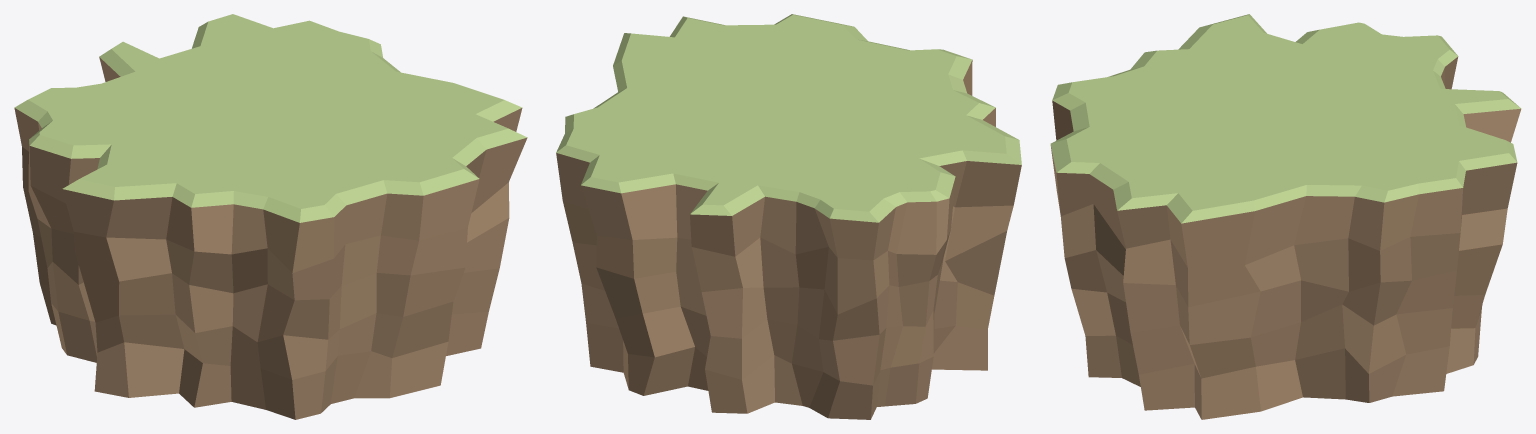
The model's file is Charlton_Cliff.glb.
3 renders of one model, left to right at view 1: azimuth 30°, elevation 25°; view 2: azimuth 150°, elevation 25°; view 3: azimuth 270°, elevation 25°, orthographic.
Visible parts, largest first — view 1: Plane; view 2: Plane; view 3: Plane.
Part boxes in pixels (x1,y1,x2,y2): Plane: [14, 14, 527, 419]; Plane: [556, 14, 1021, 419]; Plane: [1050, 14, 1521, 419].
Size of the model in its own units: 2 by 0.9872 by 1.88.
1 material, 1 textured.
